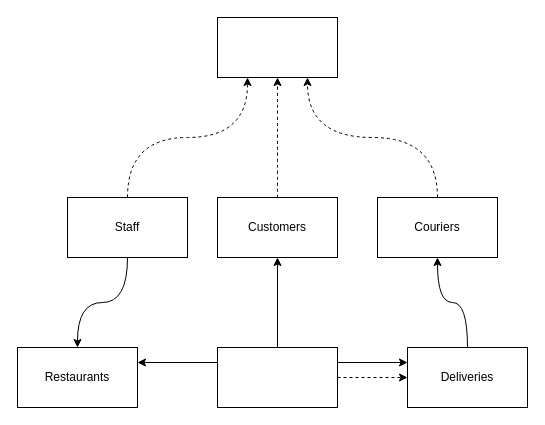
Some shapes in this 545 by 425 pixel diagram are drawn without their labels. The shapes that lost their labels are listed below. From the top down, each one's centre as x and y in pixels, then its label:
At (x=277, y=47): "Authentication".
At (x=277, y=377): "Orders".
